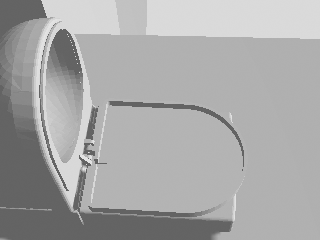lid_1: (80, 97, 248, 217)
